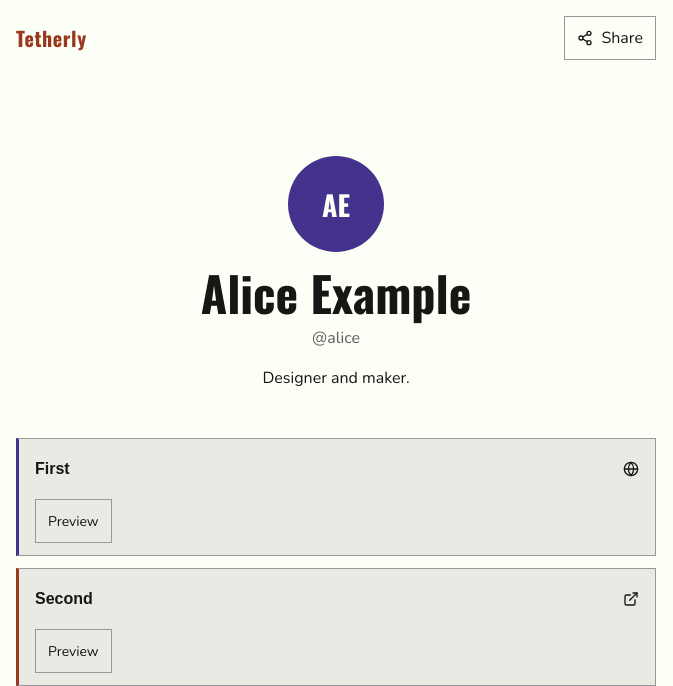
Scenario: public profile safety helpers › renders snapshot links in position order, filters unsafe URLs, and supports preview copy
Expected: the heading "Alice Example" is shown, [201,257,471,328]
Expected: the links read "First", "Second", in this order, [35,460,639,477]; [35,590,639,607]
Click the button with aria-label "Preview First". click: [73, 521]
box: [35,499,112,543]
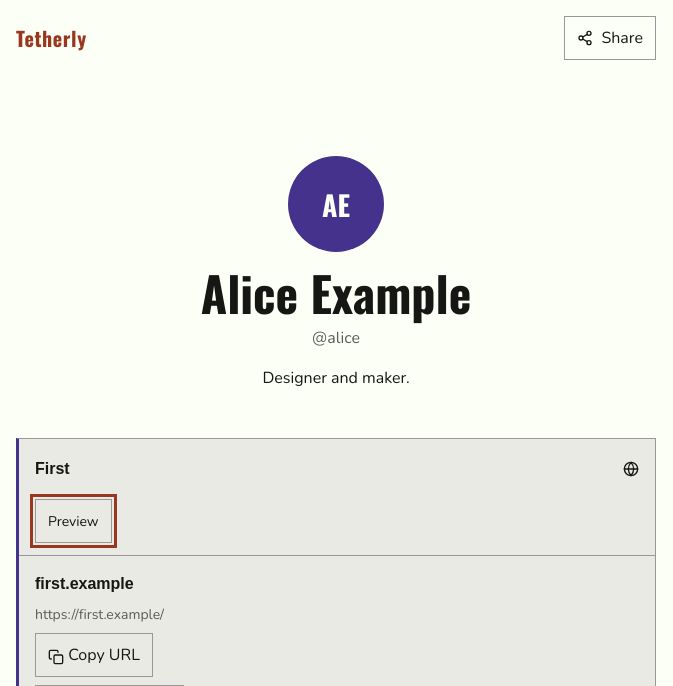
Result: the text "first.example" is shown at [35,575,134,592]
Click the button "Copy URL". click: [94, 655]
box: [35,633,153,677]
(page scrolled)
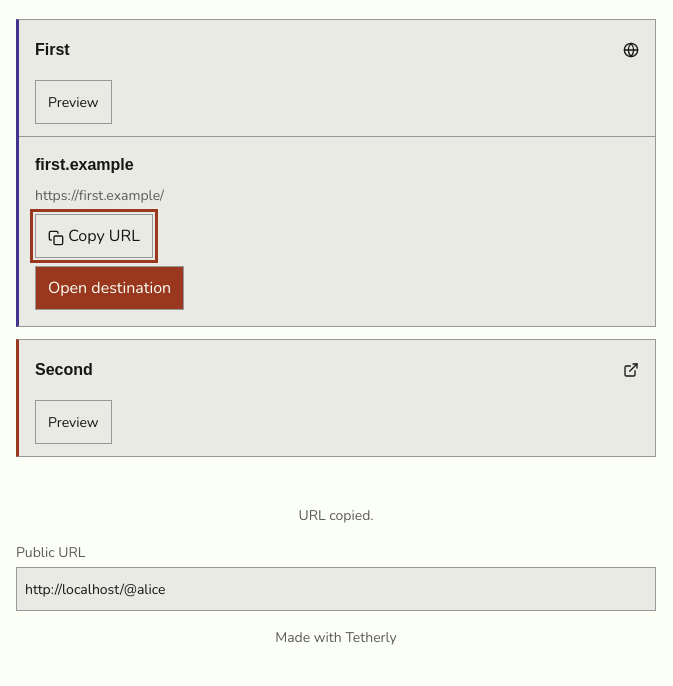
Result: the message reads "URL copied." at [298,506,374,525]
